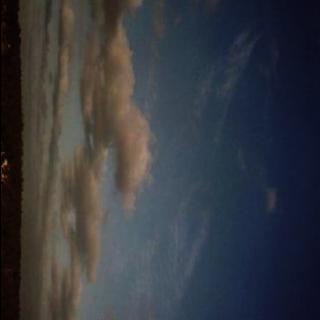Cirrocumulus: (18, 0, 320, 320)
